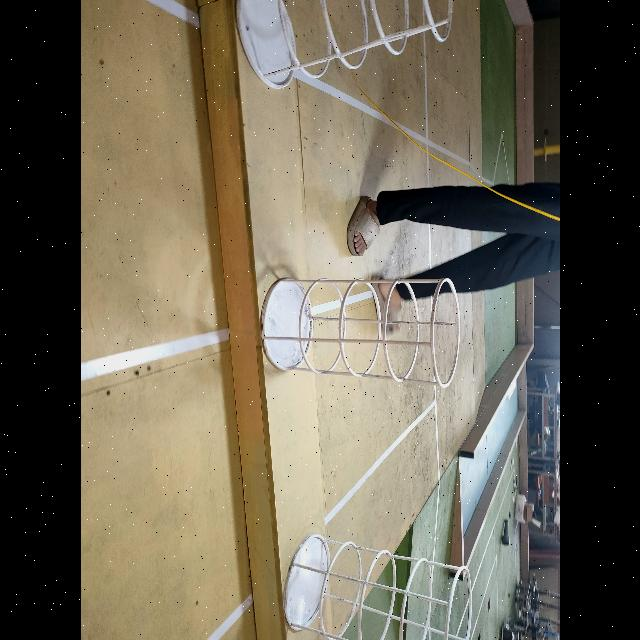S: (258, 271, 464, 393), (281, 532, 476, 640), (230, 0, 458, 91)
